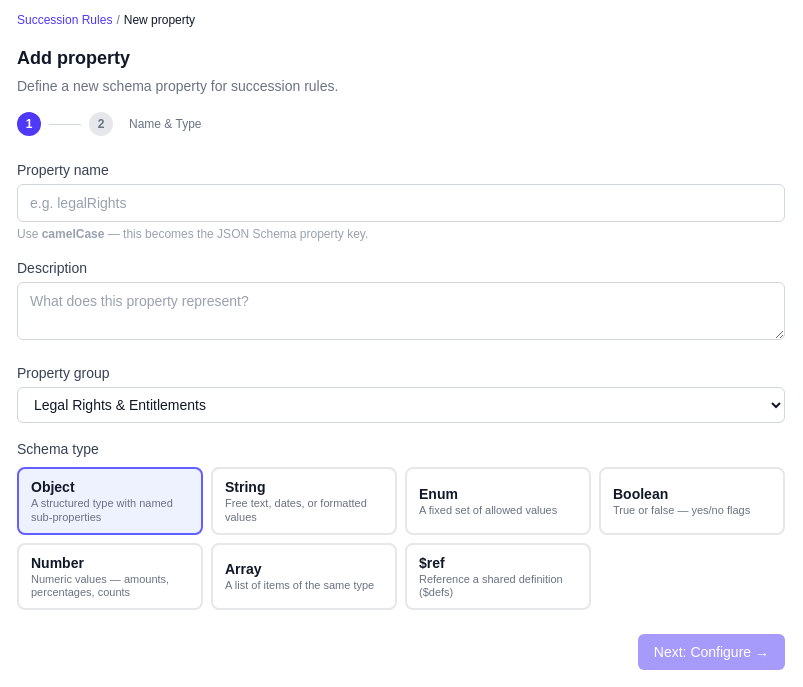
Test: AddPropertyWizard › shows string constraints when String type is selected
Type "name" into the field labelled "Property name" at (401, 203), box [17,184,785,222]
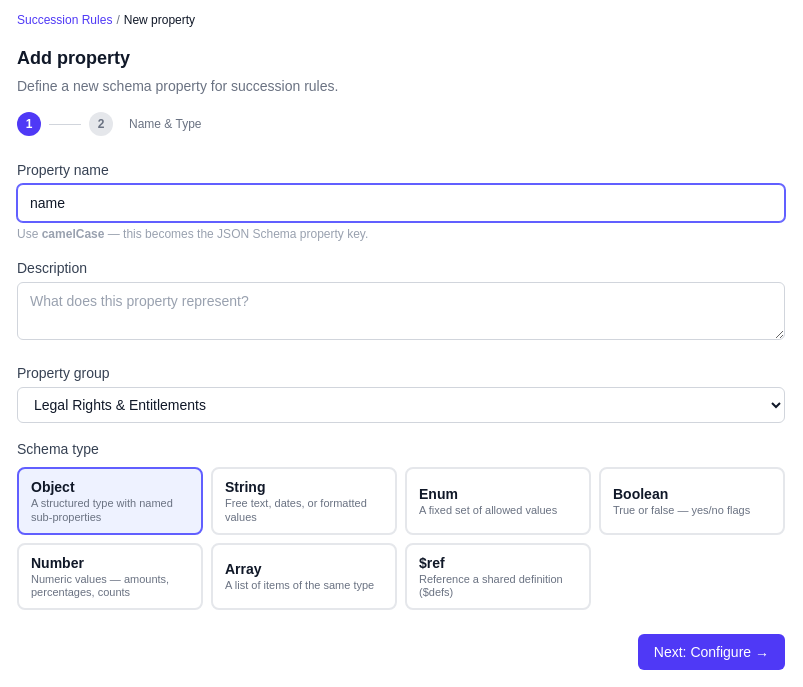
Click the text "String" at (245, 487), box [225,479,266,495]
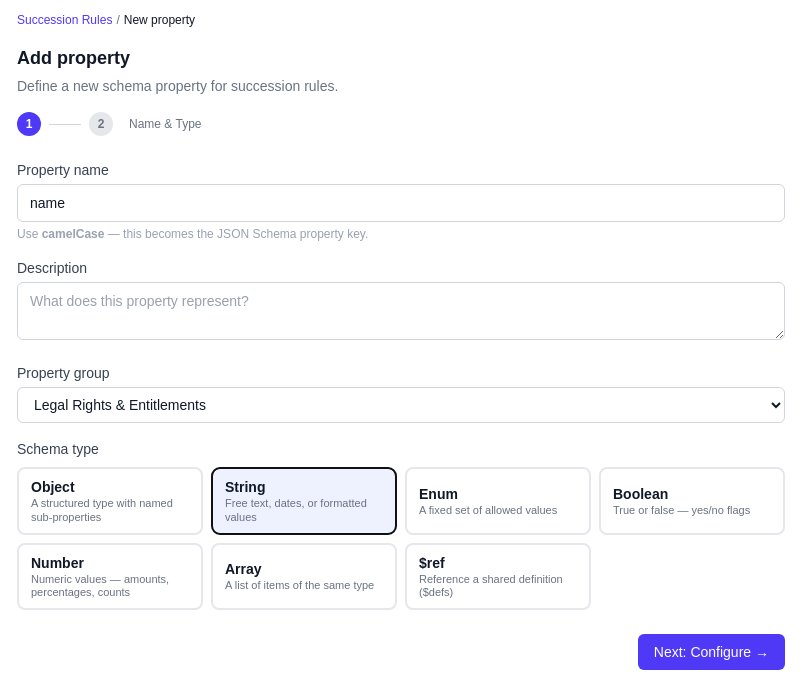
Click the button "Next: Configure →" at (711, 652), box [638,634,785,670]
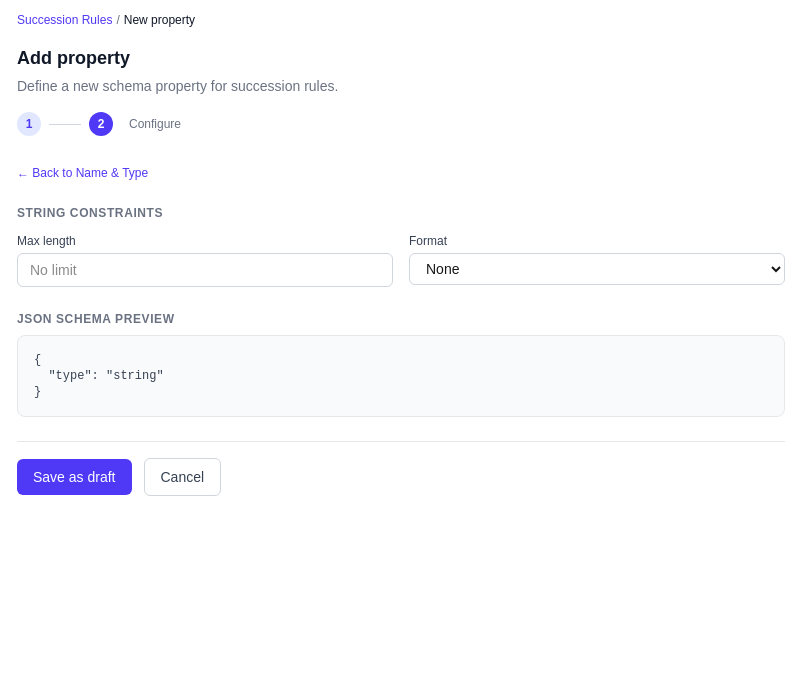
Result: the heading "String constraints" is shown at [17,206,163,220]
Result: the number field labelled "Max length" is shown at [17,253,393,287]
Result: the dropdown labelled "Format" is shown at [409,253,785,285]
